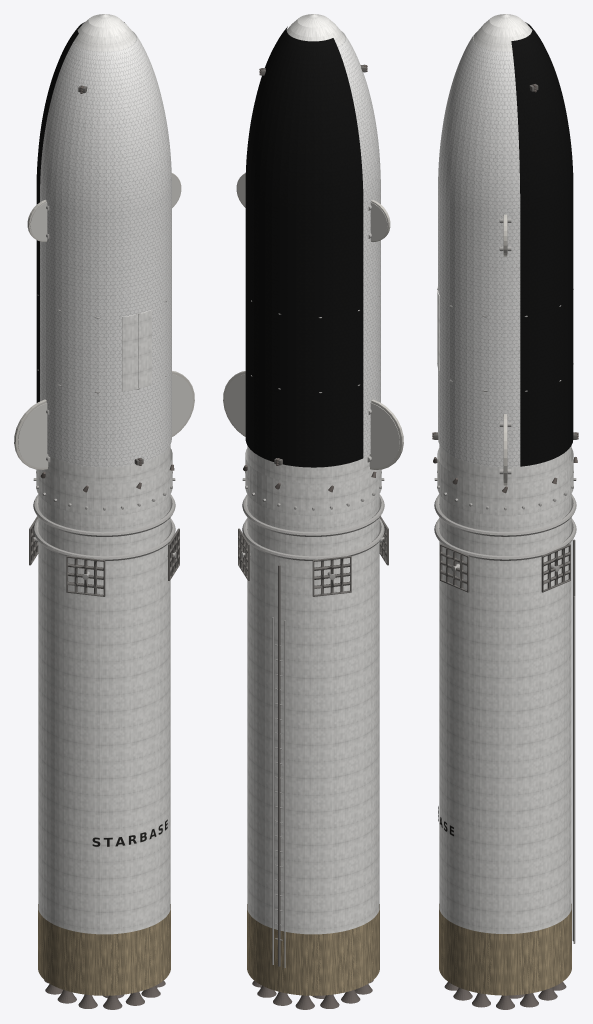
Rendered from starship_stack.glb.
3 views of the same model, side by side, from view 1: azimuth 30°, elevation 25°; view 2: azimuth 150°, elevation 25°; view 3: azimuth 270°, elevation 25° (orthographic).
Visible parts, largest first — view 1: hull, tps_blanket, aft_skirt, interstage, tps_shield, flap_aft_w_rim, bay_door, bay_door.001, grid_fin.002, cupper, flap_aft_rim, cupper.001 (+2 smaller); view 2: hull, tps_shield, aft_skirt, tps_blanket, interstage, flap_aft_w_rim, feed_pipe, grid_fin.001, cupper, flap_aft_rim, cupper.001, ladder_rail (+3 smaller); view 3: hull, tps_blanket, tps_shield, aft_skirt, interstage, ladder_rail.001, cupper, feed_pipe, grid_fin, grid_fin.003, cupper.001.
Boxes of the visible parts, x1=… form: hull: x1=38, y1=14, x2=170, y2=934; tps_blanket: x1=40, y1=31, x2=171, y2=467; aft_skirt: x1=38, y1=904, x2=170, y2=995; interstage: x1=36, y1=448, x2=172, y2=515; tps_shield: x1=36, y1=22, x2=124, y2=402; flap_aft_w_rim: x1=18, y1=403, x2=48, y2=467; bay_door: x1=122, y1=314, x2=137, y2=391; bay_door.001: x1=138, y1=310, x2=151, y2=388; grid_fin.002: x1=66, y1=555, x2=105, y2=596; cupper: x1=33, y1=494, x2=175, y2=536; flap_aft_rim: x1=172, y1=374, x2=192, y2=434; cupper.001: x1=33, y1=518, x2=175, y2=560; hull: x1=247, y1=14, x2=379, y2=934; tps_shield: x1=245, y1=26, x2=363, y2=467; aft_skirt: x1=247, y1=904, x2=379, y2=995; tps_blanket: x1=337, y1=31, x2=380, y2=457; interstage: x1=245, y1=448, x2=381, y2=515; flap_aft_w_rim: x1=369, y1=403, x2=399, y2=467; feed_pipe: x1=278, y1=565, x2=280, y2=966; grid_fin.001: x1=312, y1=555, x2=351, y2=596; cupper: x1=242, y1=494, x2=384, y2=536; flap_aft_rim: x1=225, y1=374, x2=245, y2=434; cupper.001: x1=242, y1=518, x2=384, y2=560; ladder_rail: x1=284, y1=620, x2=285, y2=967; hull: x1=439, y1=14, x2=571, y2=933; tps_blanket: x1=438, y1=31, x2=520, y2=467; tps_shield: x1=511, y1=22, x2=573, y2=466; aft_skirt: x1=439, y1=904, x2=571, y2=995; interstage: x1=437, y1=448, x2=573, y2=515; ladder_rail.001: x1=573, y1=596, x2=575, y2=943; cupper: x1=434, y1=494, x2=576, y2=536; feed_pipe: x1=572, y1=539, x2=575, y2=941; grid_fin: x1=541, y1=544, x2=570, y2=592; grid_fin.003: x1=440, y1=544, x2=469, y2=592; cupper.001: x1=434, y1=518, x2=576, y2=560.
Bounding box in the file's own units: 14.06 × 72.88 × 9.92.
Materials: 12 (5 with a texture image).
